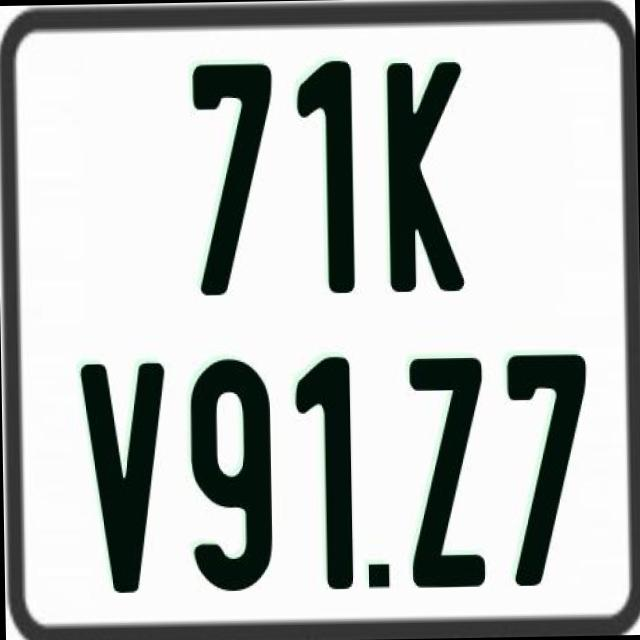1: (295, 55, 361, 295), (290, 355, 348, 589)
7: (506, 351, 592, 587), (188, 63, 270, 300)
9: (185, 354, 272, 594)
K: (383, 56, 462, 294)
V: (76, 362, 170, 594)
Z: (408, 358, 486, 594)
